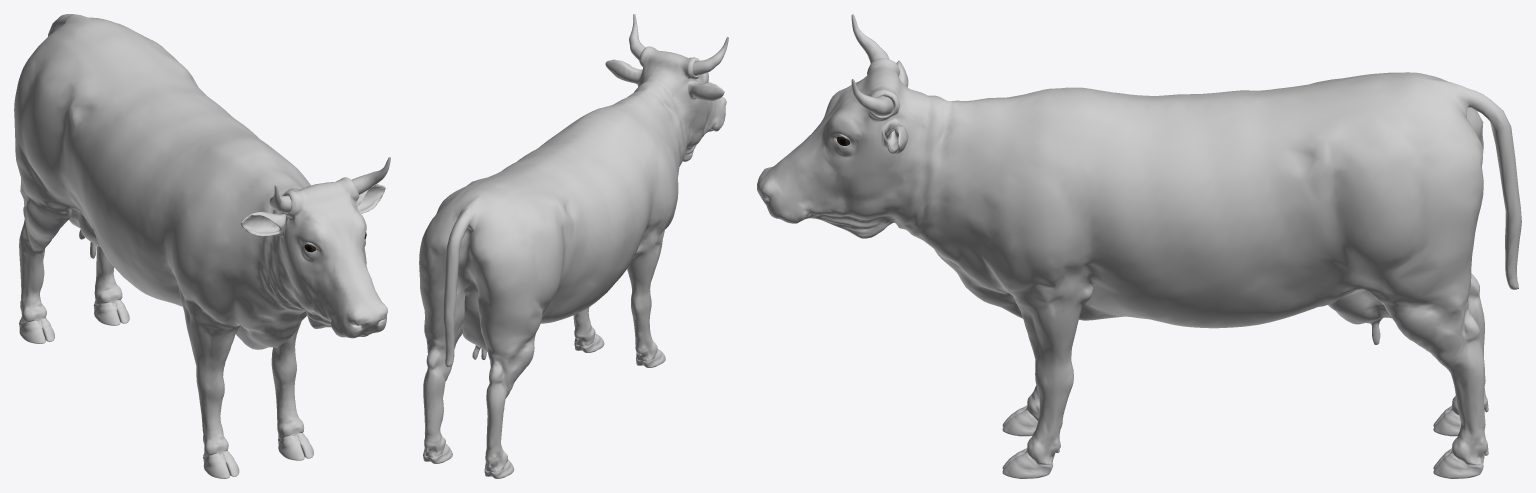
File: Cow_Skin.fbx
The picture shows the model from 3 angles, left to right: view 1: azimuth 30°, elevation 25°; view 2: azimuth 150°, elevation 25°; view 3: azimuth 270°, elevation 25°; orthographic projection. The views are drawn at different scales.
Parts seen in each view (by area): view 1: Line01; view 2: Line01; view 3: Line01.
Boxes of the visible parts, x1,y1,x2,y2 form: Line01: (14,14,390,478); Line01: (419,14,728,478); Line01: (757,14,1521,478).
Bounding box in the file's own units: 83.53 × 179 × 306.
